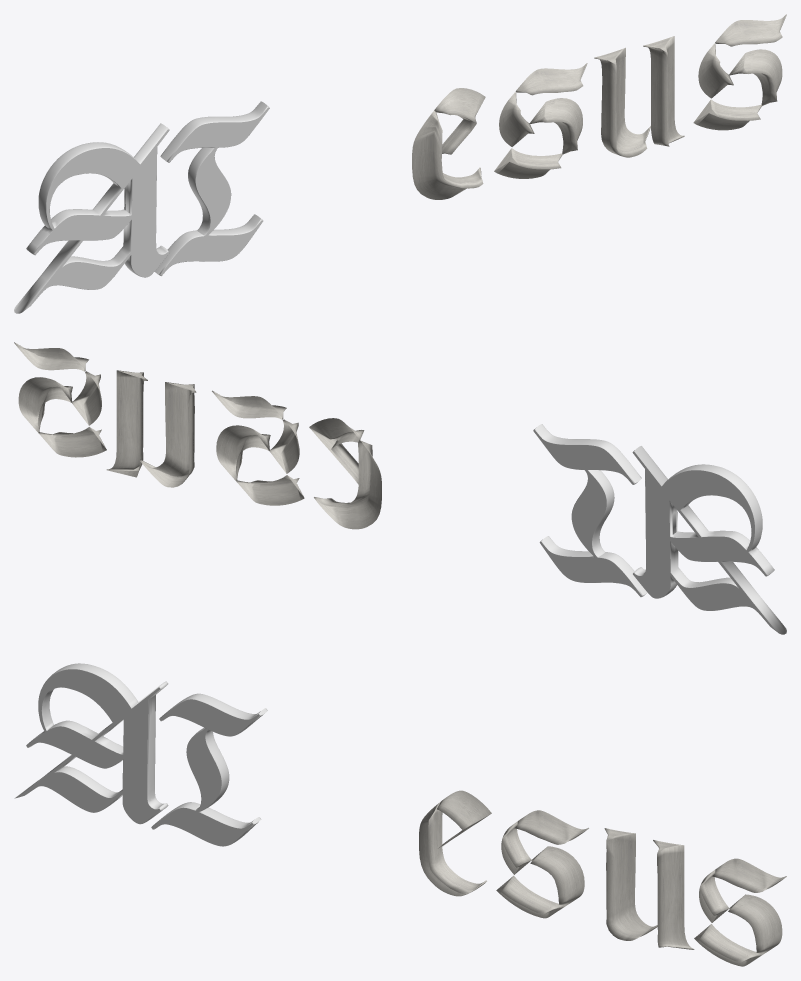
File: titles30.glb
The picture shows the model from 3 angles, top to bottom: view 1: azimuth 30°, elevation 25°; view 2: azimuth 150°, elevation 25°; view 3: azimuth 330°, elevation 25°; orthographic projection.
Visible parts, largest first — view 1: A, I, U, S, S2, E; view 2: A, I, U, S, S2, E; view 3: A, I, U, S, S2, E.
Boxes of the visible parts, x1,y1,x2,y2 form: A: (14,123,169,313); I: (154,101,269,276); U: (594,36,684,157); S: (494,63,587,178); S2: (693,14,786,130); E: (412,88,485,199); A: (632,446,786,634); I: (533,424,647,597); U: (106,370,196,487); S: (212,390,304,505); S2: (14,342,106,457); E: (309,418,381,529); A: (14,663,168,824); I: (151,693,267,846); U: (604,828,694,949); S: (496,810,588,918); S2: (694,858,786,966); E: (419,790,491,896).
Bounding box in the file's own units: 0.4323 × 0.0809 × 0.0144.
Materials: 2 (1 with a texture image).
